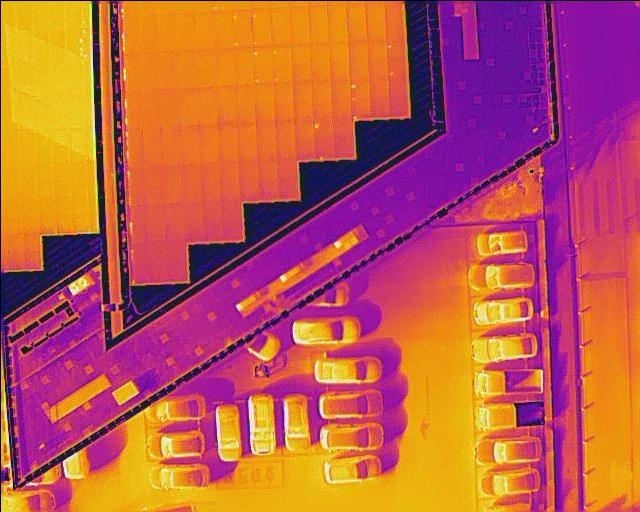Cell-Multi: (250, 46, 272, 84), (250, 8, 272, 46), (312, 121, 333, 158), (349, 81, 370, 117), (386, 42, 405, 80), (272, 46, 292, 82), (232, 10, 250, 48), (65, 27, 83, 57)
No-Anomaly: (141, 125, 163, 166), (238, 160, 259, 201), (310, 81, 332, 120), (201, 200, 222, 240), (200, 162, 221, 202), (219, 160, 240, 200), (257, 159, 278, 199), (138, 50, 158, 91), (165, 203, 185, 244), (234, 84, 255, 123), (365, 3, 386, 42), (275, 122, 297, 159), (273, 82, 293, 122), (330, 81, 350, 121), (178, 86, 198, 126), (197, 87, 218, 125), (215, 86, 236, 124), (292, 80, 311, 122), (270, 7, 291, 45), (146, 243, 167, 281), (146, 201, 165, 243), (161, 125, 182, 163), (199, 124, 220, 162), (254, 84, 274, 123), (308, 6, 328, 45), (346, 4, 366, 43), (181, 163, 201, 202), (164, 244, 186, 279), (331, 121, 353, 156), (139, 91, 161, 126), (196, 48, 216, 86), (232, 46, 252, 84), (368, 41, 387, 81), (289, 7, 309, 45), (384, 4, 404, 42), (277, 160, 297, 198), (157, 51, 178, 87), (309, 45, 330, 81), (256, 123, 277, 159), (196, 10, 215, 49), (164, 164, 183, 203), (160, 87, 179, 126), (214, 48, 234, 85), (327, 5, 347, 42), (222, 201, 242, 238), (183, 200, 201, 241), (349, 42, 368, 80), (176, 12, 195, 50), (177, 50, 197, 86), (237, 124, 257, 160), (330, 44, 349, 81), (127, 168, 146, 205), (145, 166, 164, 203), (35, 128, 54, 165), (294, 122, 313, 159), (53, 126, 71, 165), (369, 81, 389, 116), (220, 125, 240, 160), (139, 16, 158, 52), (19, 127, 37, 165), (182, 125, 200, 163), (158, 14, 176, 51), (214, 11, 232, 48), (388, 80, 407, 115), (291, 46, 310, 81), (131, 243, 148, 282), (6, 233, 24, 269), (22, 198, 40, 233), (72, 163, 89, 199), (23, 233, 40, 268), (5, 128, 21, 165), (70, 126, 86, 163), (39, 198, 56, 232), (56, 197, 73, 231), (55, 164, 72, 198), (73, 198, 90, 231), (5, 164, 21, 199), (6, 199, 22, 233), (22, 164, 38, 198), (39, 164, 54, 199), (63, 0, 80, 28), (49, 28, 64, 58), (31, 0, 47, 28)
Unclassified: (126, 128, 145, 167), (129, 205, 147, 242), (123, 92, 141, 128), (123, 53, 139, 92), (123, 16, 139, 52)
